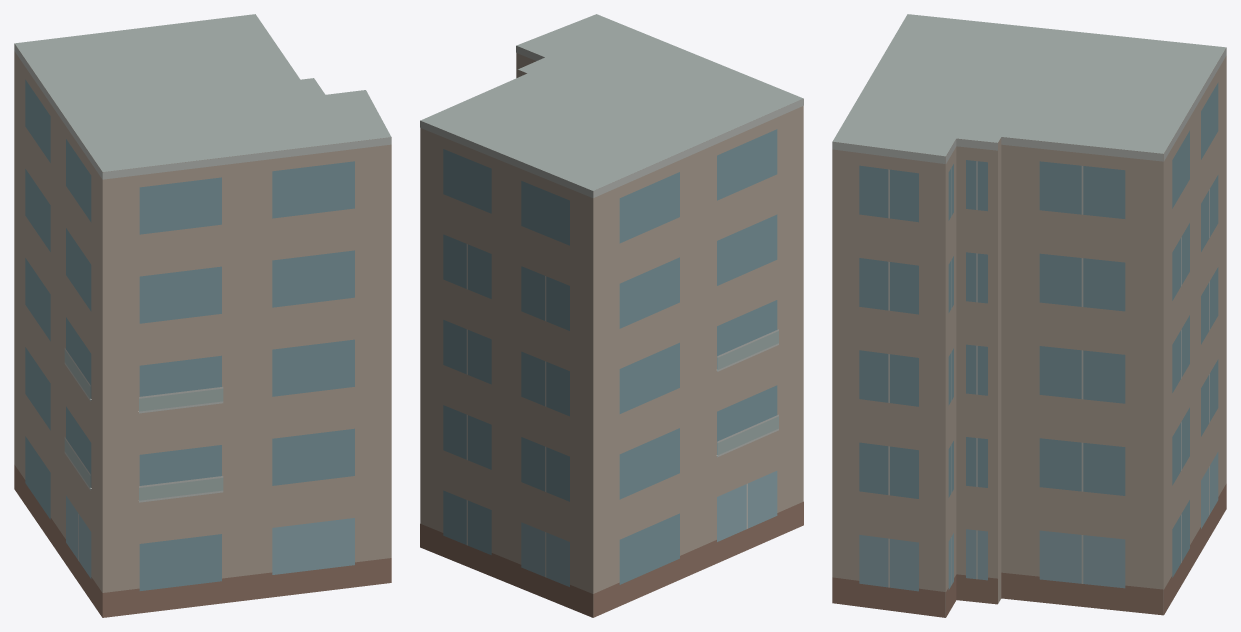
The model's file is survey-upis-33004072.glb.
3 views of the same model, side by side, from view 1: azimuth 30°, elevation 25°; view 2: azimuth 150°, elevation 25°; view 3: azimuth 270°, elevation 25° (orthographic). The views are drawn at different scales.
Visible parts, largest first — view 1: survey-upis-33004072.tmp; view 2: survey-upis-33004072.tmp; view 3: survey-upis-33004072.tmp.
Part boxes in pixels (x1=…): survey-upis-33004072.tmp: x1=14, y1=14, x2=391, y2=617; survey-upis-33004072.tmp: x1=420, y1=14, x2=803, y2=617; survey-upis-33004072.tmp: x1=832, y1=14, x2=1226, y2=617.
Bounding box in the file's own units: 9.54 × 14.4 × 11.16.
